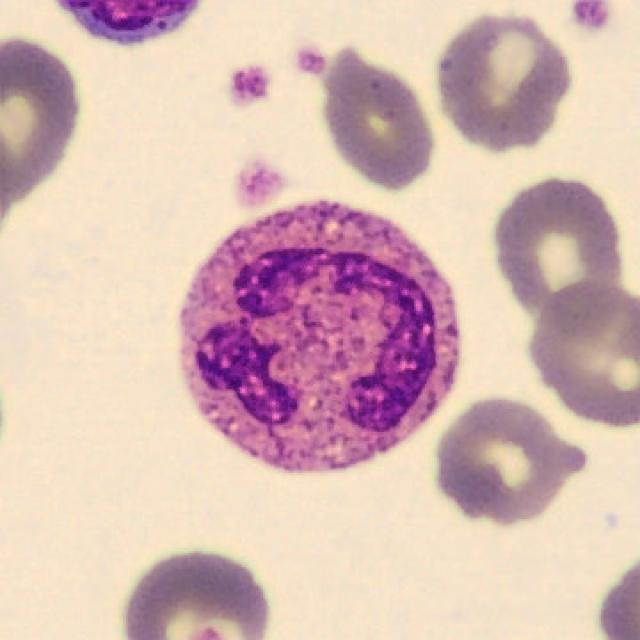Neutrofilo segmentado: (178, 201, 462, 475)
